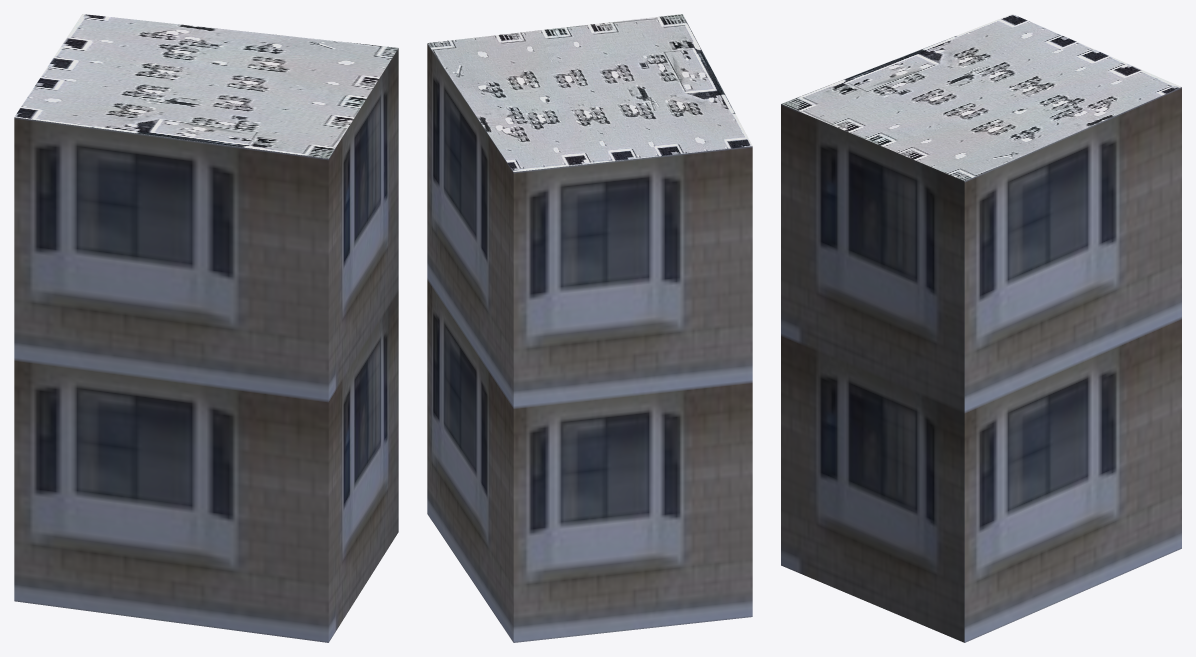
File: ResTex__2281.fbx
The picture shows the model from 3 angles, left to right: view 1: azimuth 30°, elevation 25°; view 2: azimuth 150°, elevation 25°; view 3: azimuth 270°, elevation 25°; orthographic projection. The views are drawn at different scales.
Parts seen in each view (by area): view 1: CityEngineMaterial_3_m, CityEngineMaterial_2_m; view 2: CityEngineMaterial_3_m, CityEngineMaterial_2_m; view 3: CityEngineMaterial_3_m, CityEngineMaterial_2_m.
Boxes of the visible parts, <box> form: CityEngineMaterial_3_m: <box>14,48,398,642</box>; CityEngineMaterial_2_m: <box>14,14,398,158</box>; CityEngineMaterial_3_m: <box>427,43,752,642</box>; CityEngineMaterial_2_m: <box>427,14,752,171</box>; CityEngineMaterial_3_m: <box>781,87,1181,642</box>; CityEngineMaterial_2_m: <box>781,14,1181,181</box>.
Size of the model in its own units: 4.66 by 6 by 4.72.
Materials: 2 (2 with a texture image).
